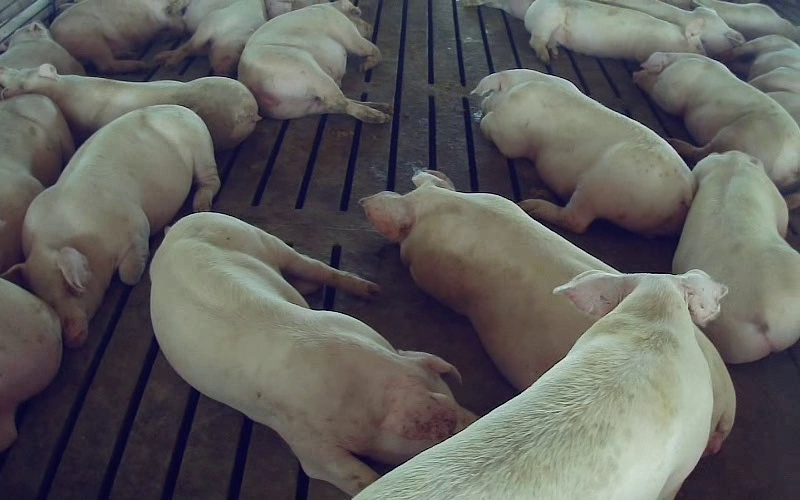pig: (150, 214, 475, 493), (361, 171, 614, 389), (5, 105, 219, 346), (474, 70, 692, 235), (673, 151, 799, 362), (634, 52, 799, 190), (0, 95, 74, 272), (524, 0, 705, 62), (50, 0, 186, 73), (156, 0, 266, 76), (720, 35, 799, 124)
